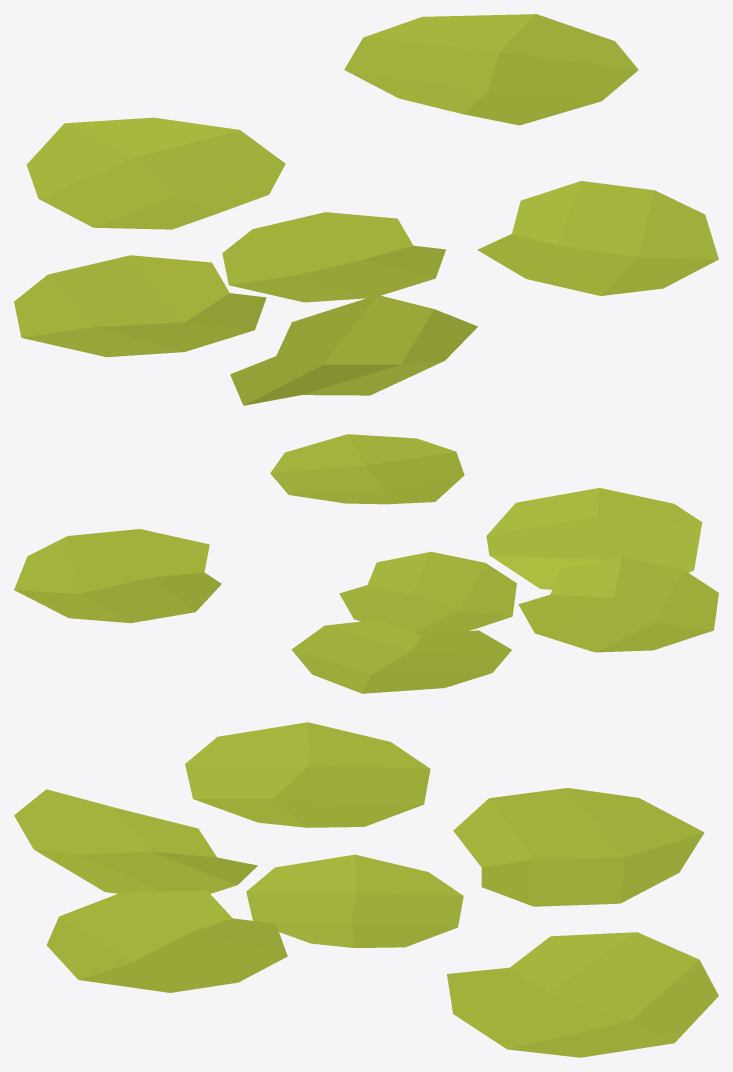
File: Lilly_leaves_2.fbx
3 views of the same model, one above another, from view 1: azimuth 30°, elevation 25°; view 2: azimuth 150°, elevation 25°; view 3: azimuth 270°, elevation 25° (orthographic). The views are drawn at different scales.
Parts seen in each view (by area): view 1: Lilly_leaves_2; view 2: Lilly_leaves_2; view 3: Lilly_leaves_2.
Boxes of the visible parts, x1=… form: Lilly_leaves_2: x1=14, y1=14, x2=718, y2=405; Lilly_leaves_2: x1=14, y1=434, x2=718, y2=693; Lilly_leaves_2: x1=14, y1=722, x2=718, y2=1057.
Bounding box in the file's own units: 6.88 × 0.5978 × 5.82.
